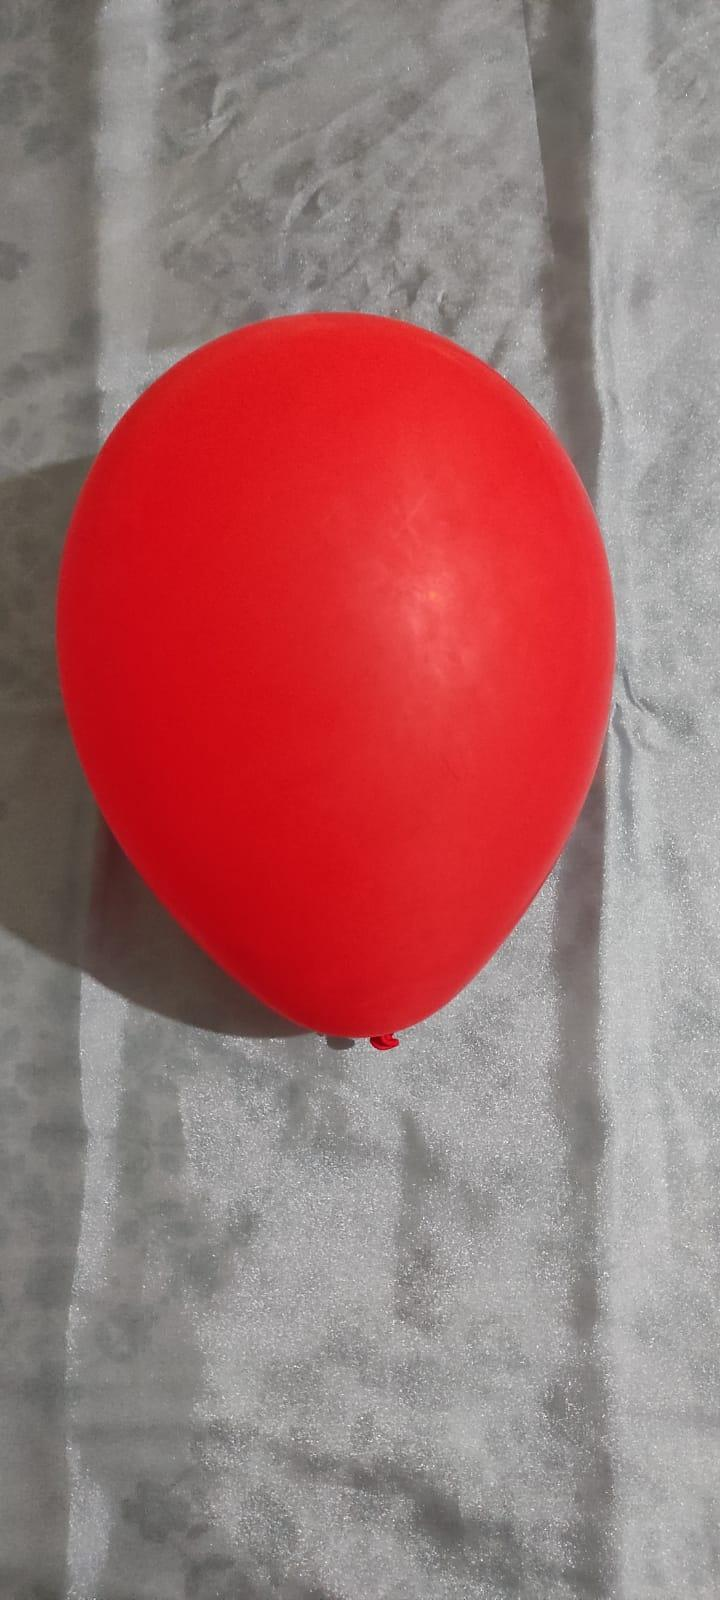red: (54, 294, 623, 1056)
